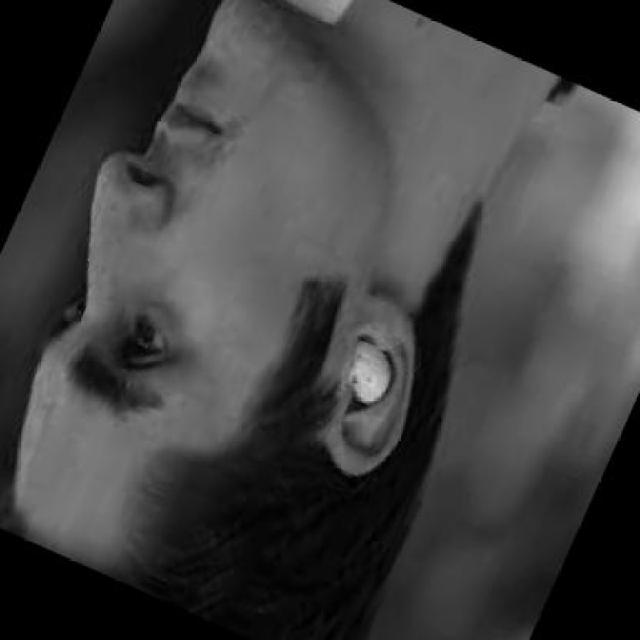earphone: (335, 328, 411, 421)
